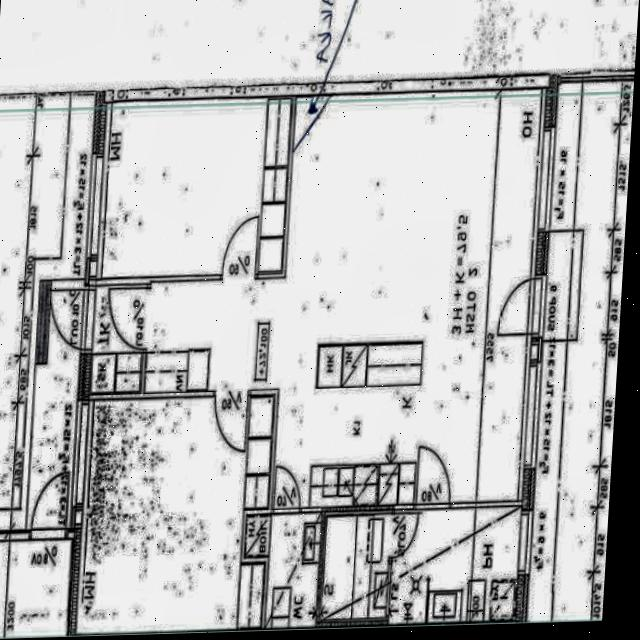room: (75, 388, 272, 640), (90, 97, 298, 279), (384, 506, 525, 625), (240, 509, 321, 631), (318, 507, 391, 626), (0, 540, 72, 638), (88, 282, 146, 398)
